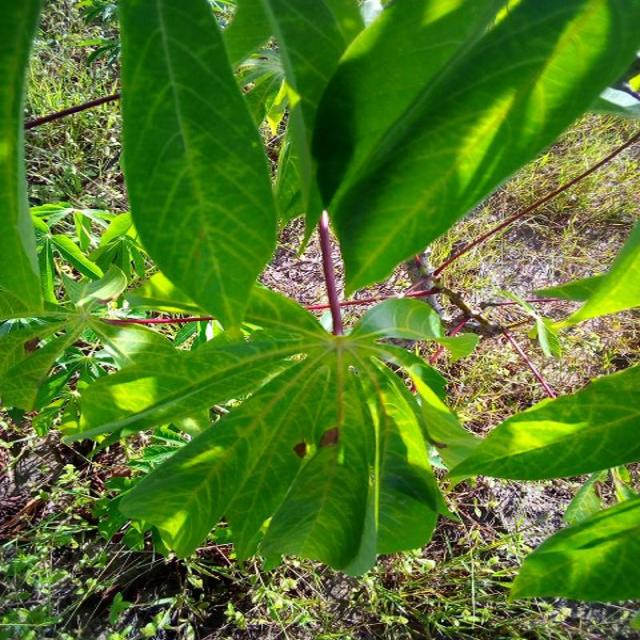cassava leaf: (309, 0, 638, 298), (110, 338, 452, 577), (116, 0, 278, 333), (445, 362, 638, 485), (507, 496, 639, 605)
